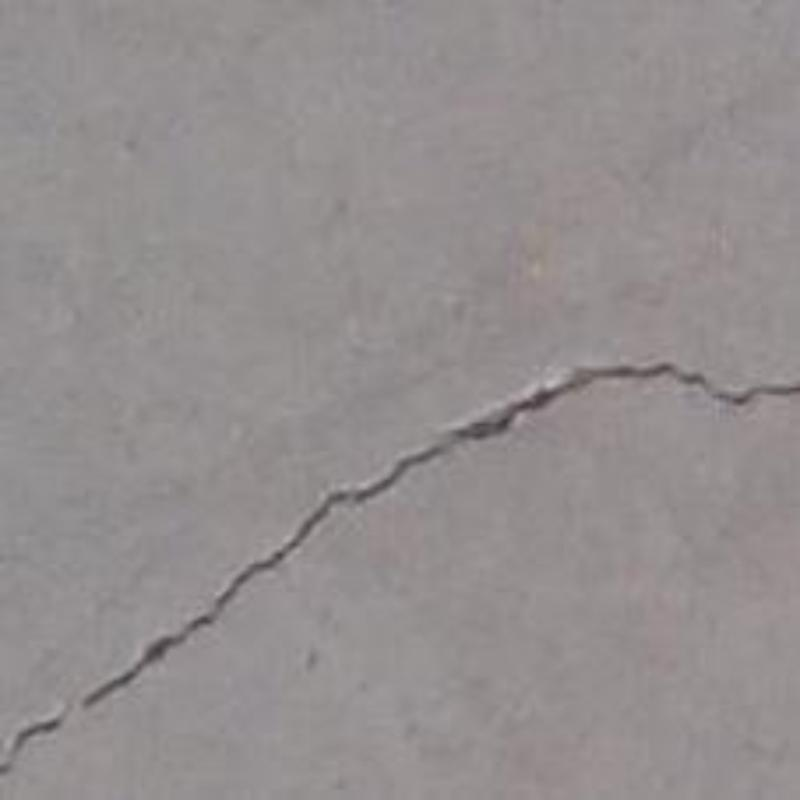crack: (0, 363, 800, 779)
